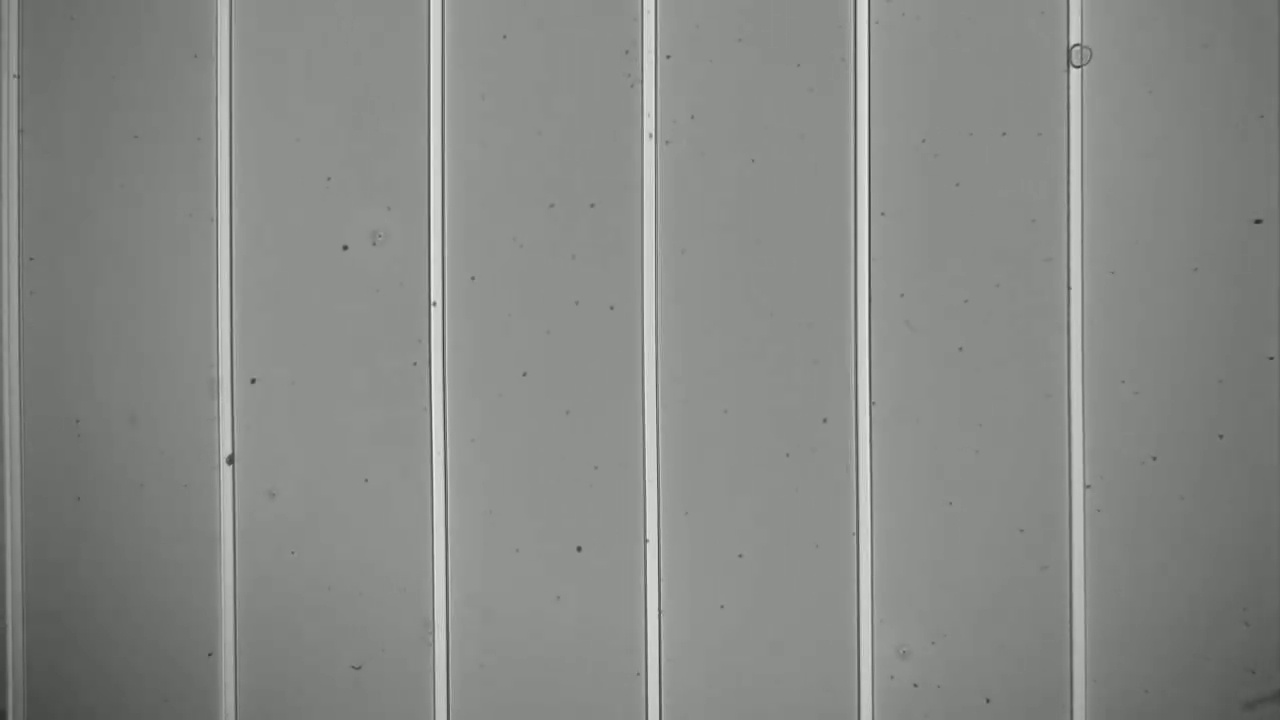stains_enbedded: (215, 449, 240, 474)
